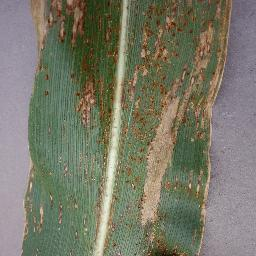Corn_Blight: (133, 0, 172, 236), (174, 1, 235, 123), (27, 0, 106, 60), (106, 0, 131, 188), (186, 126, 219, 237), (46, 187, 96, 245), (18, 149, 41, 243), (55, 146, 102, 186), (98, 189, 126, 252), (80, 63, 102, 140), (128, 241, 209, 256), (29, 60, 52, 101), (68, 67, 78, 123)
